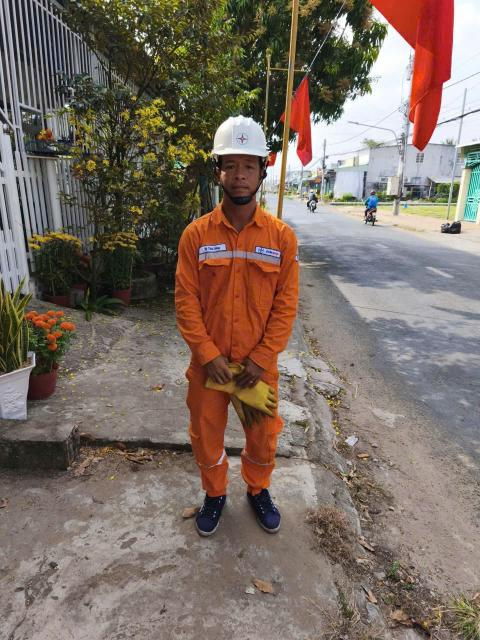gloves: (209, 353, 283, 423)
helmet: (204, 106, 287, 167)
shoes: (176, 481, 240, 542), (237, 481, 298, 537)
